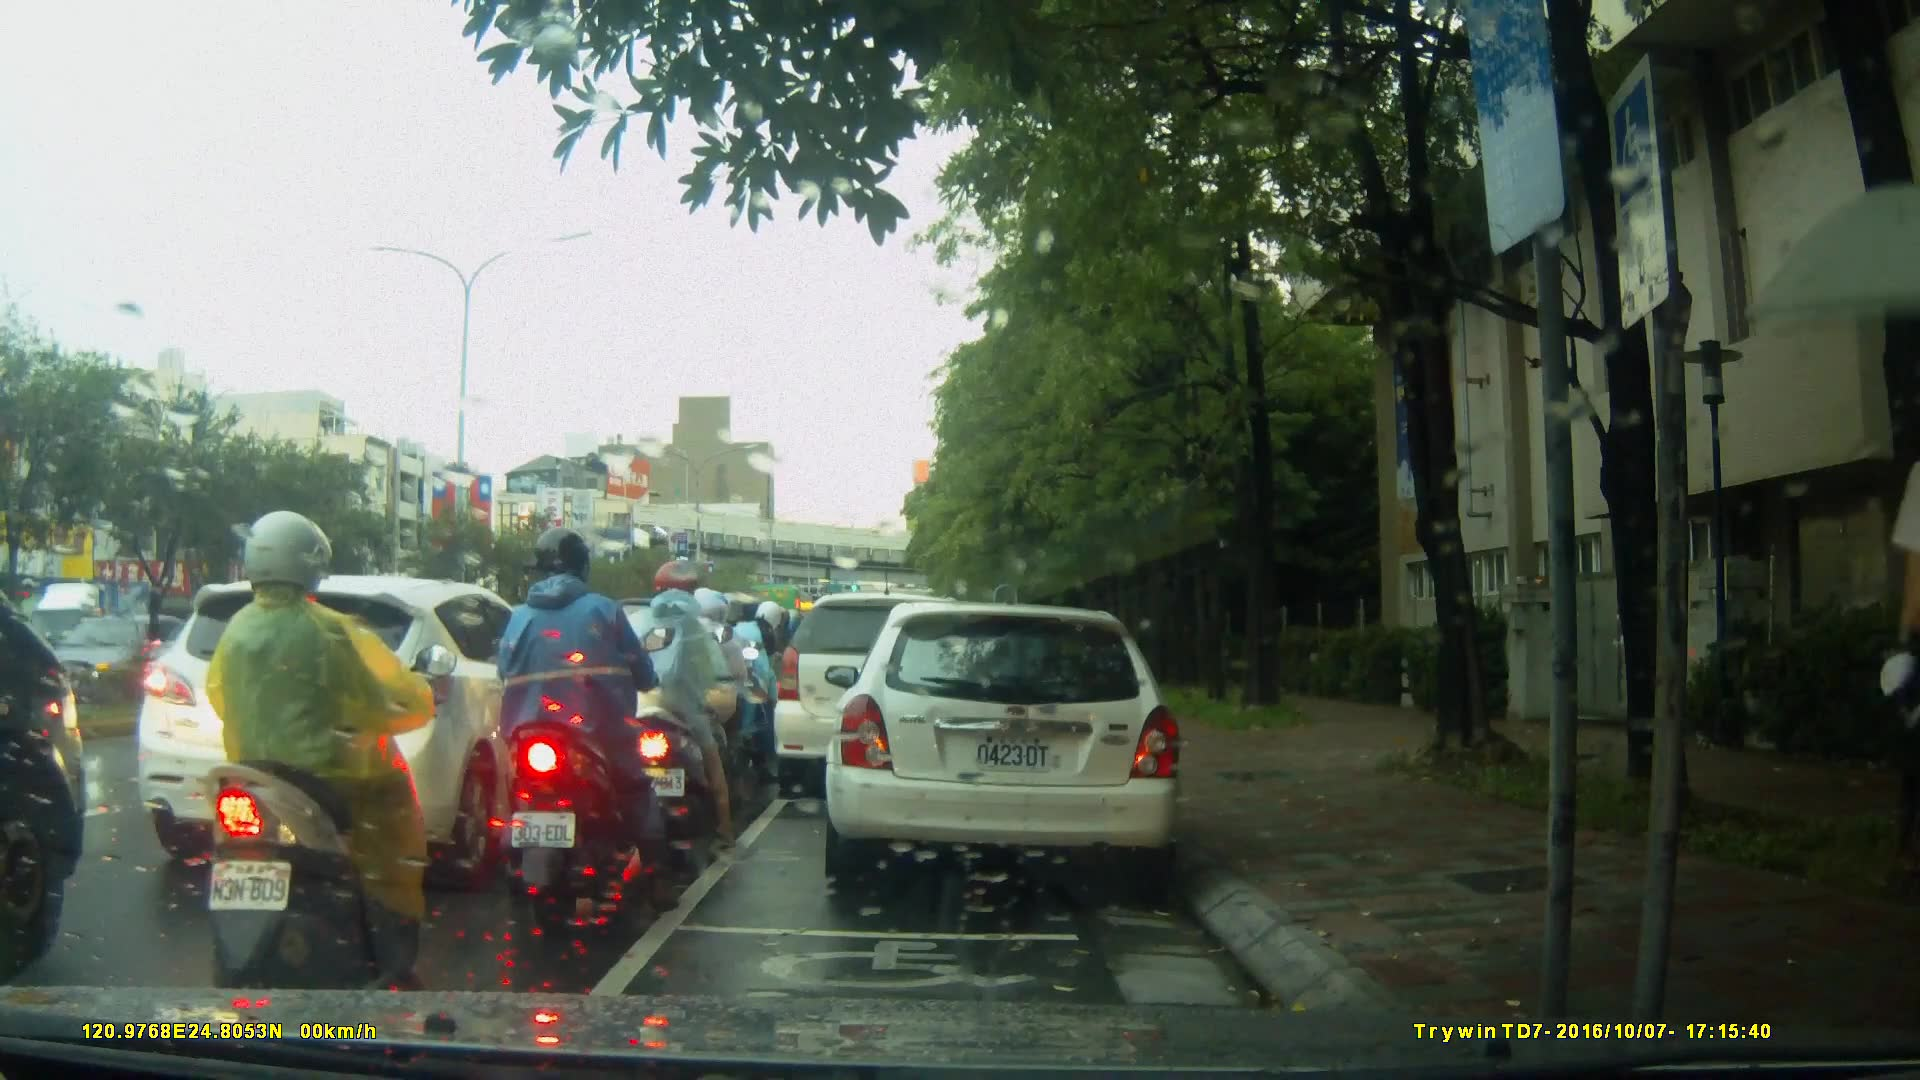pedestrian: (1873, 398, 1919, 1031)
rider: (193, 509, 461, 1015), (494, 525, 682, 921), (603, 560, 738, 852), (644, 581, 763, 823), (721, 594, 788, 766)
vehicle: (137, 572, 590, 878), (822, 604, 1188, 883), (774, 595, 995, 802), (22, 610, 241, 715), (20, 576, 199, 697)
